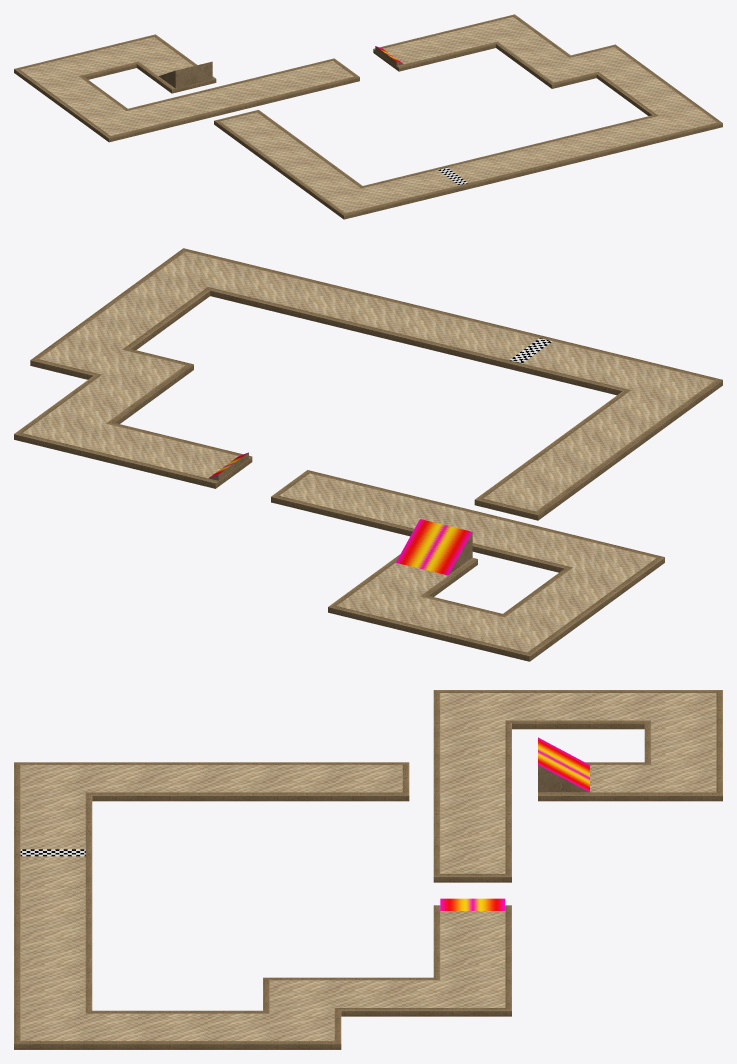
The picture shows the model from 3 angles, top to bottom: view 1: azimuth 30°, elevation 25°; view 2: azimuth 150°, elevation 25°; view 3: azimuth 270°, elevation 25°; orthographic projection. The views are drawn at different scales.
Visible parts, largest first — view 1: course-SKP--2.002, course-SKP--1.002, course-SKP--3.002; view 2: course-SKP--2.002, course-SKP--1.002, course-SKP--Boost.004; view 3: course-SKP--2.002, course-SKP--1.002, course-SKP--Boost.004, course-SKP--3.002.
Part boxes in pixels (bbox=[...]): course-SKP--2.002: bbox=[20, 17, 716, 212]; course-SKP--1.002: bbox=[14, 14, 722, 219]; course-SKP--3.002: bbox=[159, 46, 403, 88]; course-SKP--2.002: bbox=[23, 252, 713, 652]; course-SKP--1.002: bbox=[14, 248, 722, 661]; course-SKP--Boost.004: bbox=[209, 452, 472, 575]; course-SKP--2.002: bbox=[20, 693, 716, 1040]; course-SKP--1.002: bbox=[14, 690, 722, 1049]; course-SKP--Boost.004: bbox=[440, 737, 589, 910]; course-SKP--3.002: bbox=[538, 765, 588, 792].
Size of what is drawn, in the model's own units: 40451 by 1806 by 34265.
Materials: 5 (5 with a texture image).
